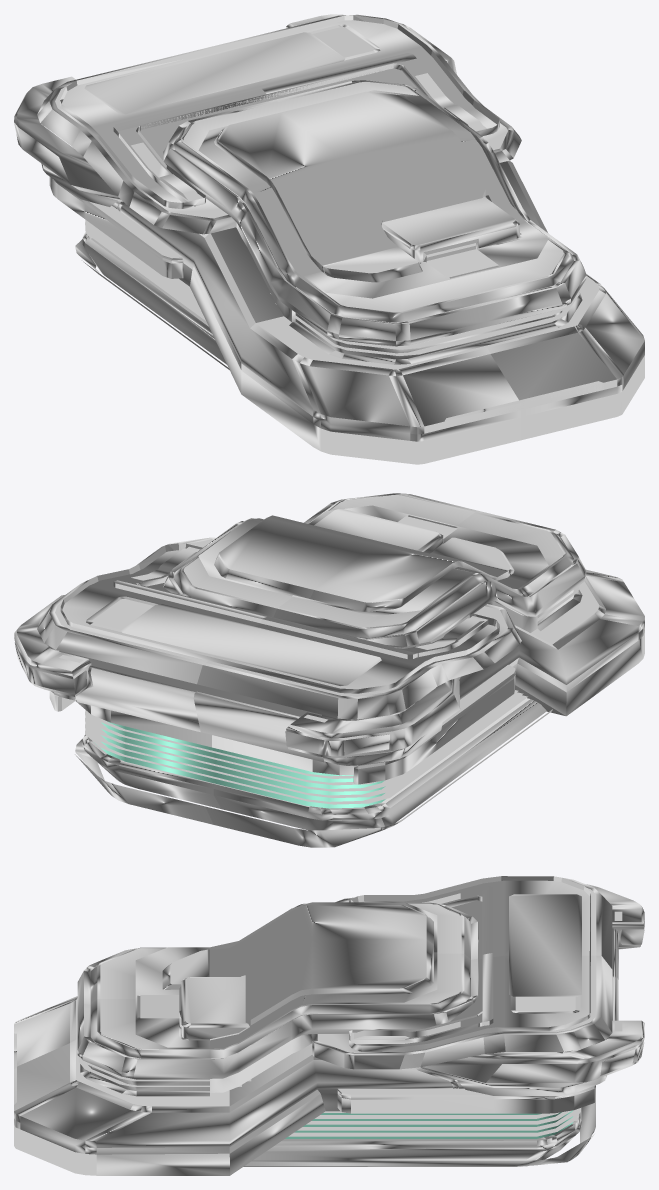
The model's file is building_base_100m_002_a.glb.
The picture shows the model from 3 angles, top to bottom: view 1: azimuth 30°, elevation 25°; view 2: azimuth 150°, elevation 25°; view 3: azimuth 270°, elevation 25°; orthographic projection. The views are drawn at different scales.
Bounding box in the file's own units: 259 × 111 × 387.
